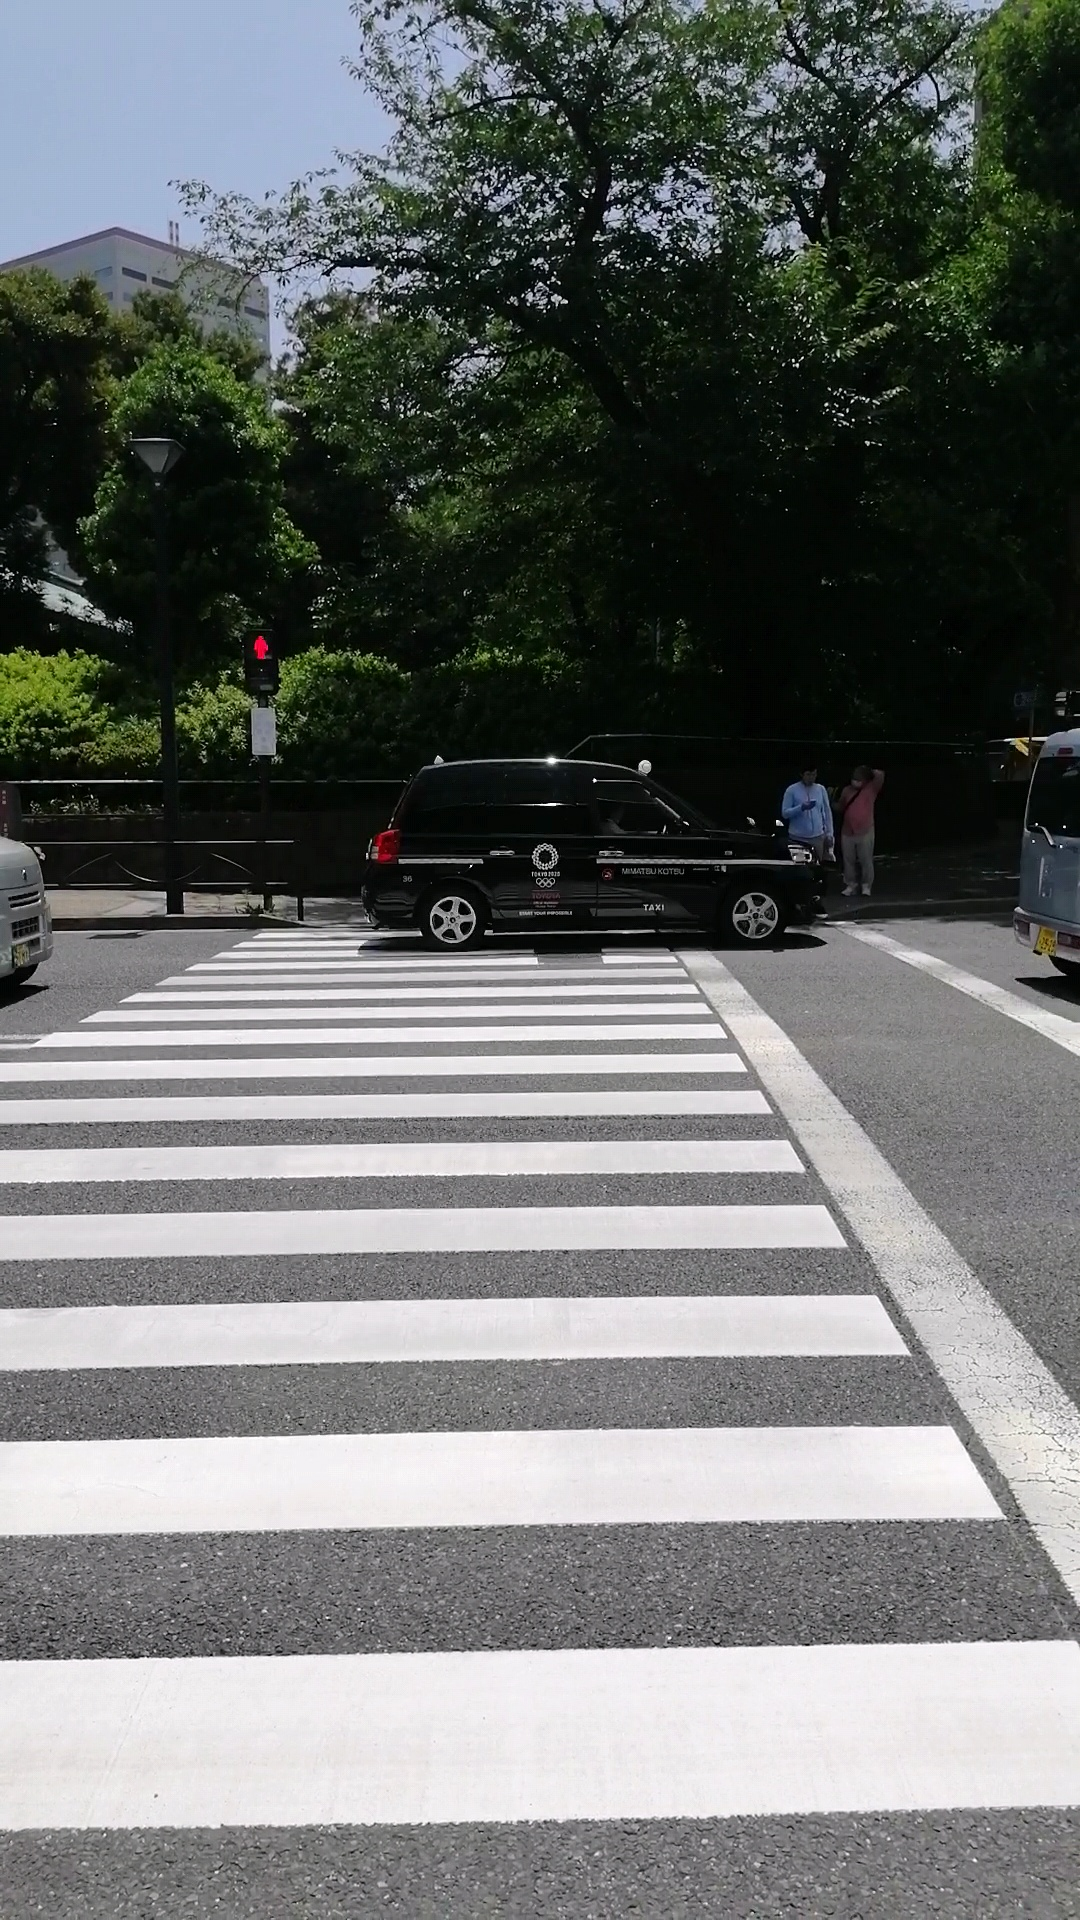red: (243, 626, 280, 692)
